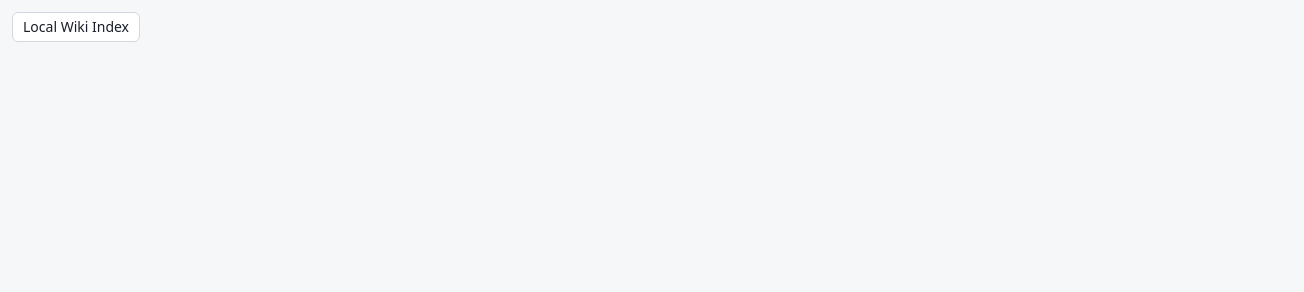
Test case: Local Wiki Index controls › shows the saved state and only offers the four typed actions, with no install, download or approval control
Click the button "Local Wiki Index" at (76, 27), box [12,12,140,42]
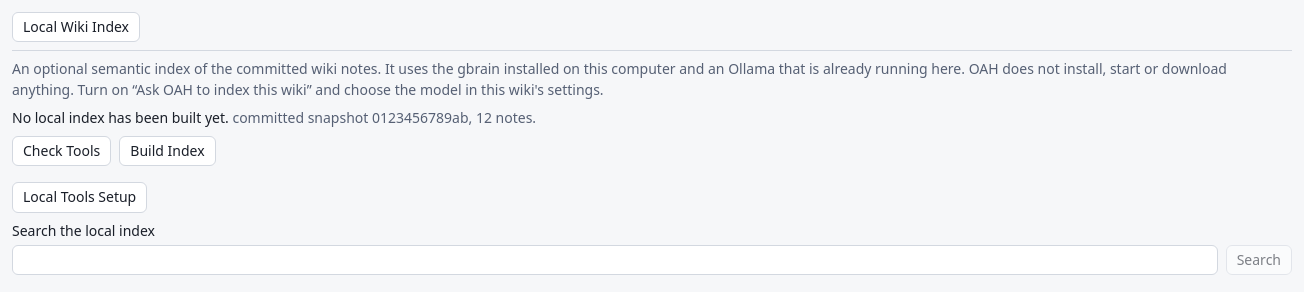
expect the element with class "wiki-index-state" shows "No local index has been built yet.": met, box [12,108,229,127]
expect the element with class "wiki-index-state" shows "committed snapshot 0123456789ab, 12 notes": met, box [232,108,532,127]
